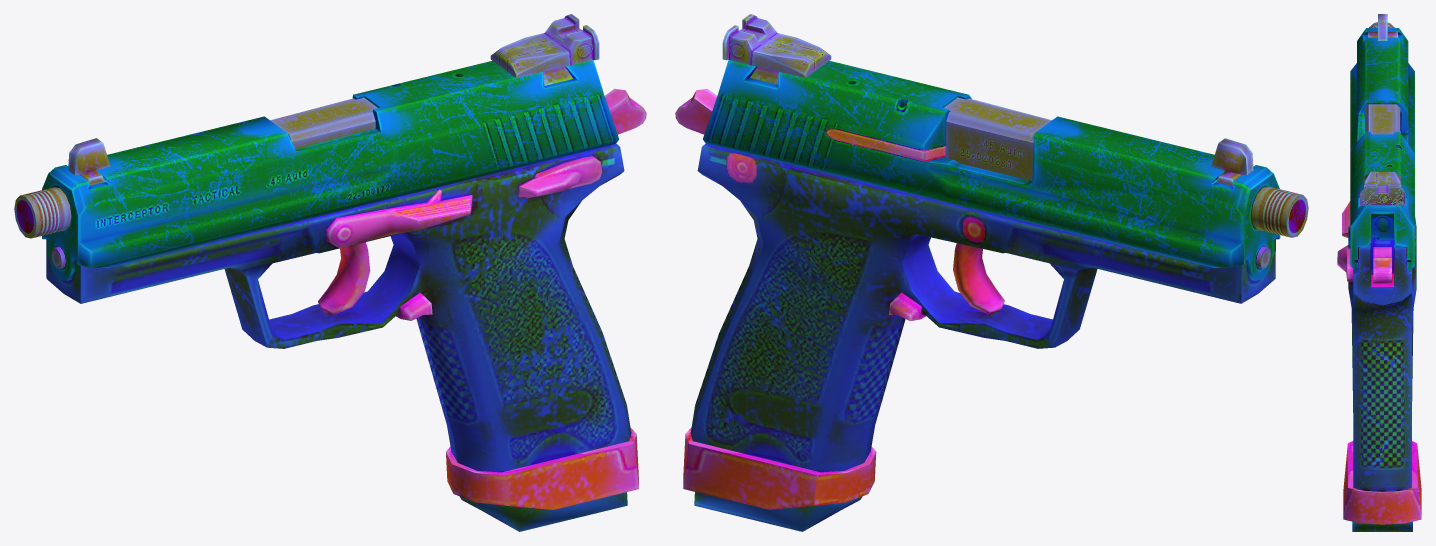
File: usp.glb
The picture shows the model from 3 angles, left to right: view 1: azimuth 30°, elevation 25°; view 2: azimuth 150°, elevation 25°; view 3: azimuth 270°, elevation 25°; orthographic projection. The views are drawn at different scales.
Visible parts, largest first — view 1: usp; view 2: usp; view 3: usp.
Boxes of the visible parts, x1,y1,x2,y2 form: usp: [14, 14, 646, 531]; usp: [675, 14, 1308, 531]; usp: [1337, 14, 1421, 531].
Bounding box in the file's own units: 0.2546 × 0.1872 × 0.0426.
5 materials, 5 textured.
